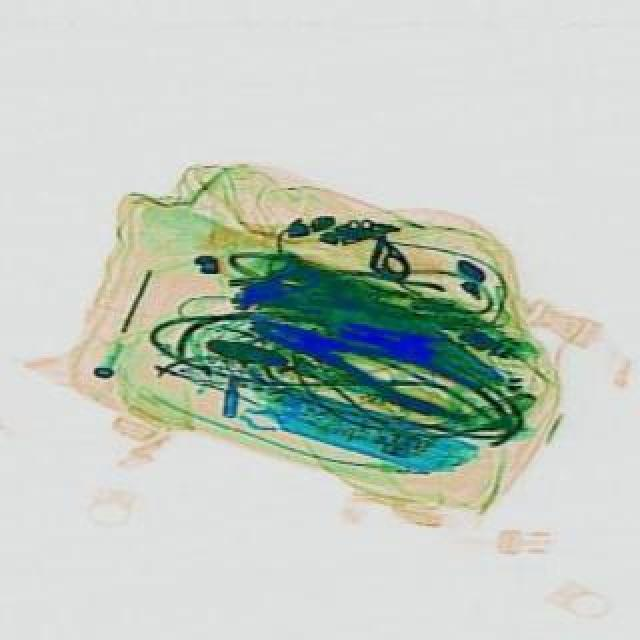wrench: (240, 298, 482, 426)
